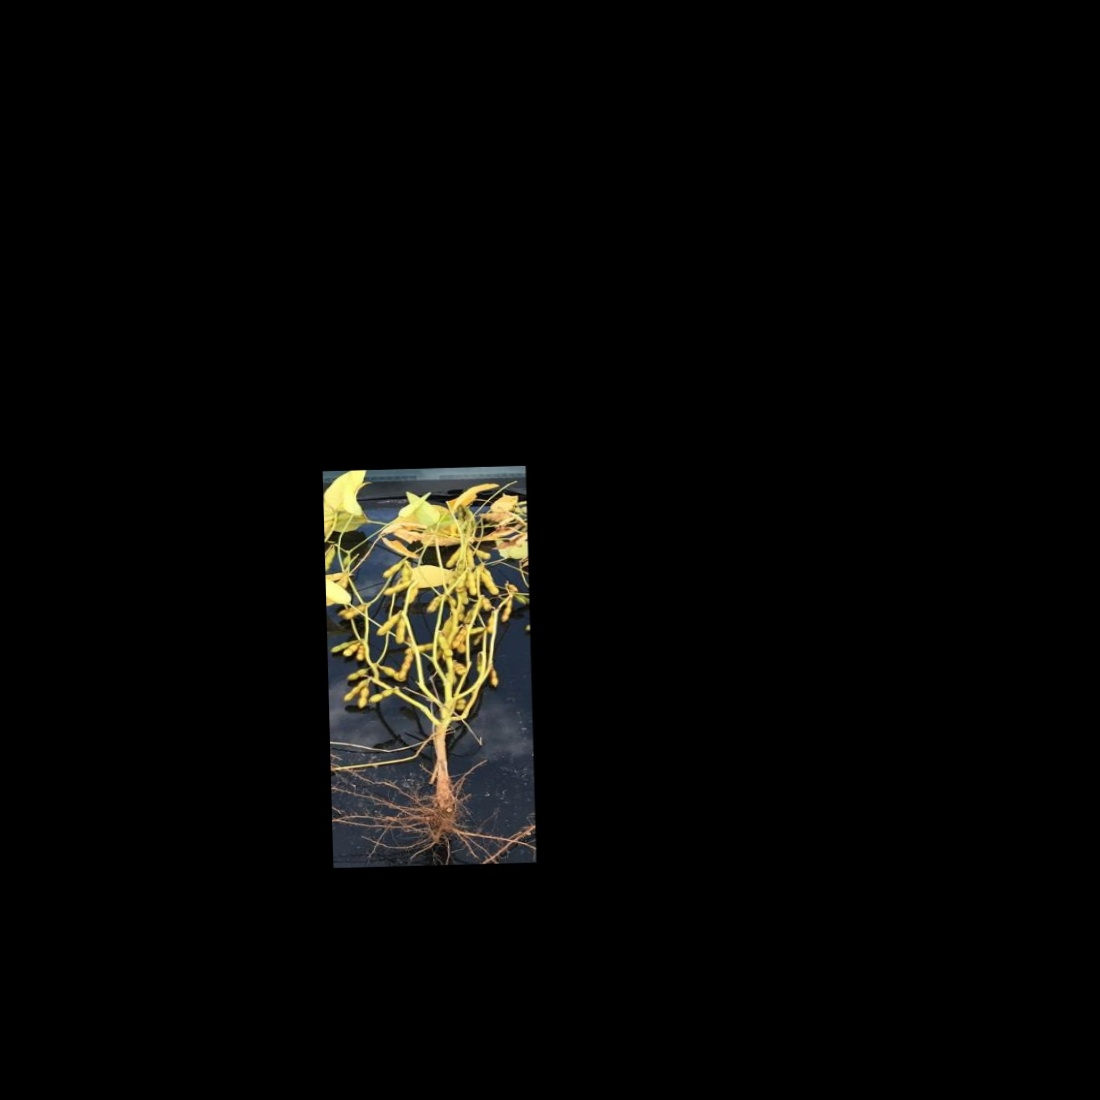pod: (395, 650, 417, 681), (368, 687, 399, 704), (402, 640, 437, 655), (479, 573, 500, 599), (393, 616, 410, 645), (380, 560, 405, 578), (356, 684, 373, 708), (404, 583, 421, 607), (424, 595, 443, 614), (343, 667, 369, 681), (489, 666, 501, 690), (356, 642, 368, 662), (474, 548, 492, 562)
soy: (332, 473, 532, 849)
